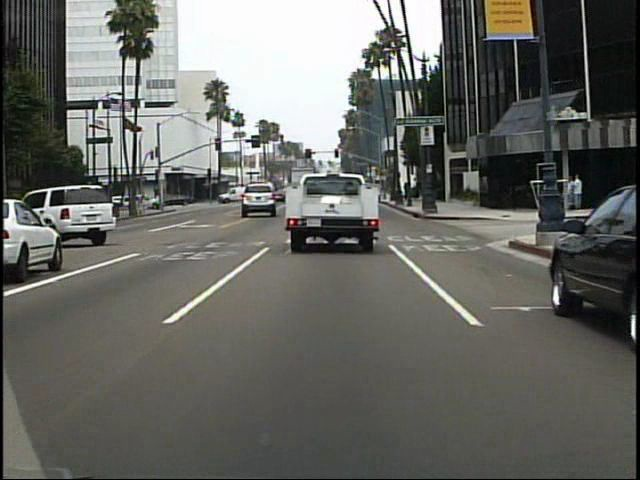person: (570, 170, 586, 212), (562, 173, 576, 216), (153, 189, 167, 214)
